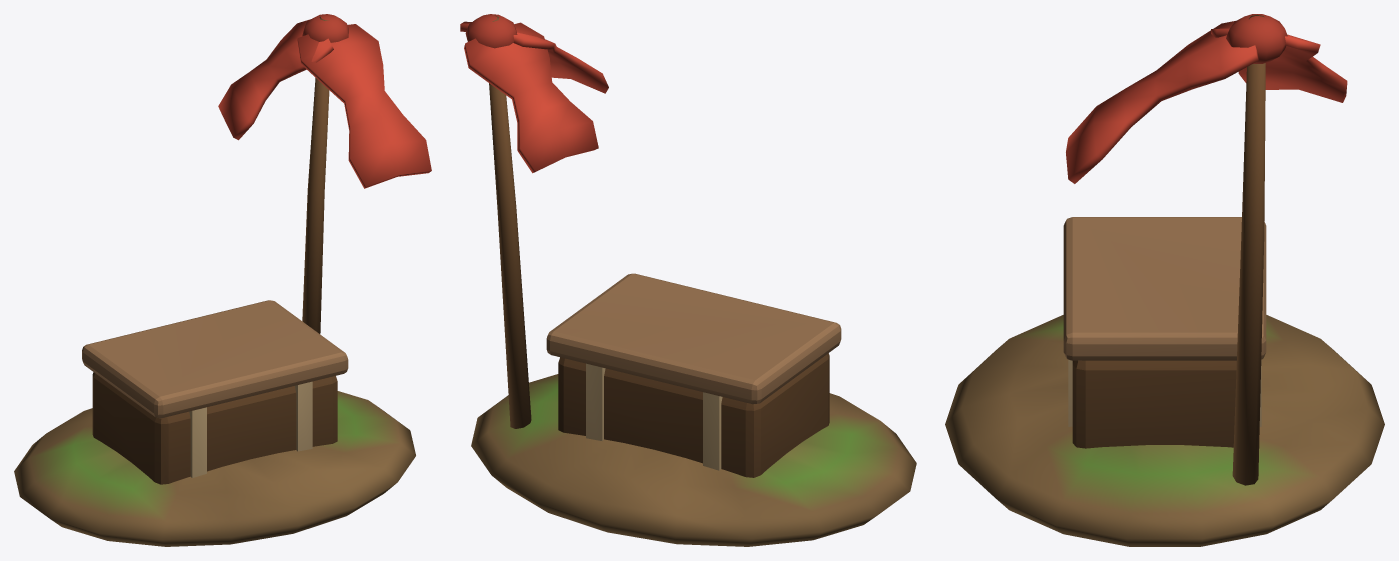
The model's file is crew_stash.glb.
3 renders of one model, left to right at view 1: azimuth 30°, elevation 25°; view 2: azimuth 150°, elevation 25°; view 3: azimuth 270°, elevation 25°, orthographic. The views are drawn at different scales.
Parts seen in each view (by area): view 1: Stash, Lid; view 2: Stash, Lid; view 3: Stash, Lid.
Boxes of the visible parts, x1,y1,x2,y2 form: Stash: (14, 14, 431, 546); Lid: (82, 300, 348, 418); Stash: (460, 14, 916, 546); Lid: (546, 273, 841, 404); Stash: (945, 14, 1384, 546); Lid: (1063, 217, 1266, 360).
Bounding box in the file's own units: 1.25 × 1.36 × 1.
